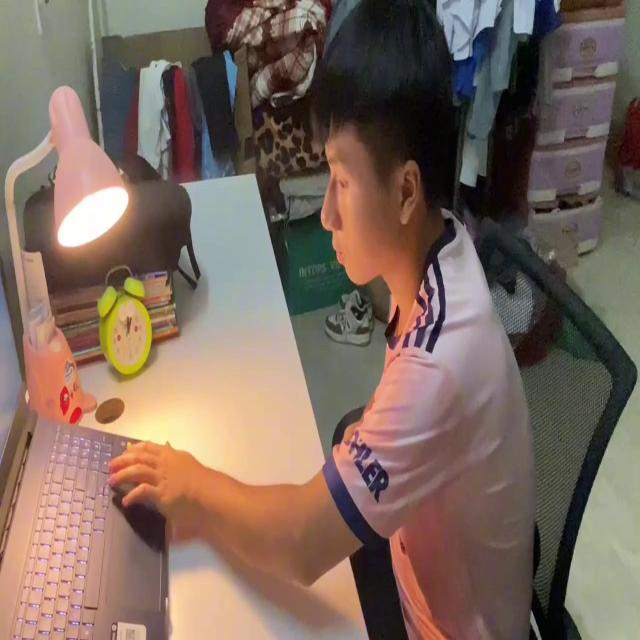laptop: (1, 255, 171, 640)
student: (102, 0, 535, 640)
